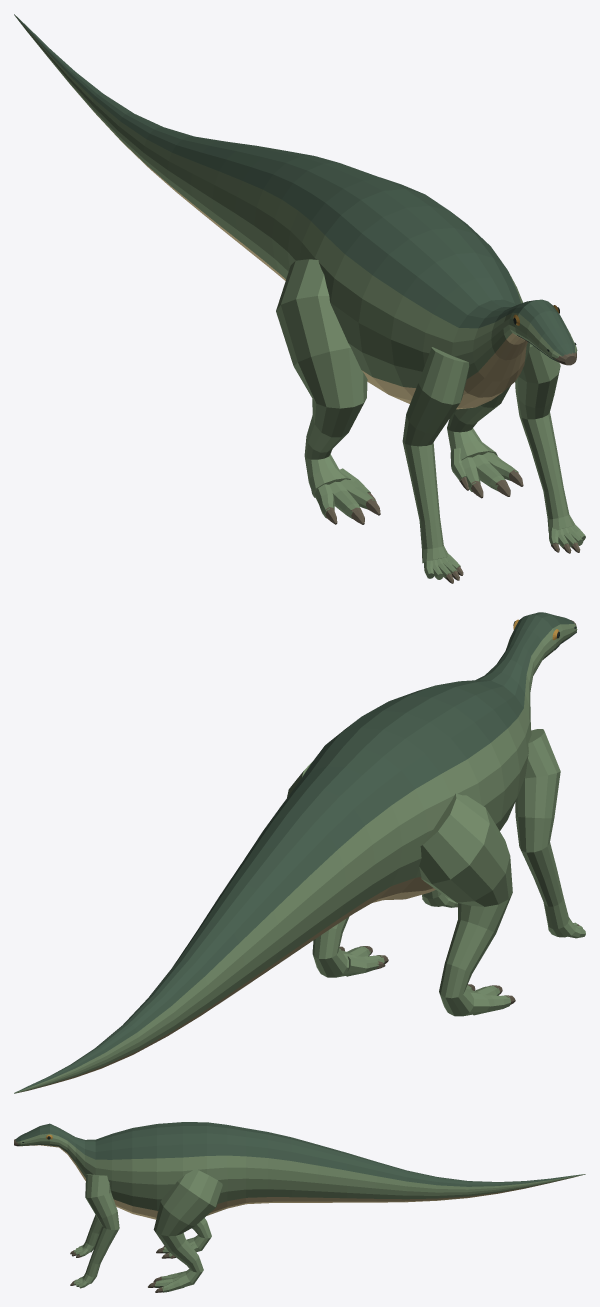
3 renders of one model, top to bottom at view 1: azimuth 30°, elevation 25°; view 2: azimuth 150°, elevation 25°; view 3: azimuth 270°, elevation 25°, orthographic. The views are drawn at different scales.
Visible parts, largest first — view 1: Continuous_Head_Neck_DeepTrunk_LongTail, Powerful_Hindlimbs_FourToedFeet, Short_Forelimbs_FiveDigitHands, Beak_And_BluntDigitTips; view 2: Continuous_Head_Neck_DeepTrunk_LongTail, Powerful_Hindlimbs_FourToedFeet, Short_Forelimbs_FiveDigitHands; view 3: Continuous_Head_Neck_DeepTrunk_LongTail, Powerful_Hindlimbs_FourToedFeet, Short_Forelimbs_FiveDigitHands, Beak_And_BluntDigitTips.
Boxes of the visible parts, bbox=[...] form: Continuous_Head_Neck_DeepTrunk_LongTail: bbox=[14, 14, 577, 409]; Powerful_Hindlimbs_FourToedFeet: bbox=[276, 259, 518, 518]; Short_Forelimbs_FiveDigitHands: bbox=[402, 343, 585, 579]; Beak_And_BluntDigitTips: bbox=[325, 352, 580, 583]; Continuous_Head_Neck_DeepTrunk_LongTail: bbox=[14, 612, 577, 1093]; Powerful_Hindlimbs_FourToedFeet: bbox=[287, 762, 512, 1016]; Short_Forelimbs_FiveDigitHands: bbox=[422, 729, 585, 938]; Continuous_Head_Neck_DeepTrunk_LongTail: bbox=[15, 1122, 585, 1219]; Powerful_Hindlimbs_FourToedFeet: bbox=[153, 1169, 222, 1292]; Short_Forelimbs_FiveDigitHands: bbox=[74, 1174, 119, 1288]; Beak_And_BluntDigitTips: bbox=[14, 1139, 175, 1292].
Size of the model in its own units: 1.51 by 1.97 by 7.
